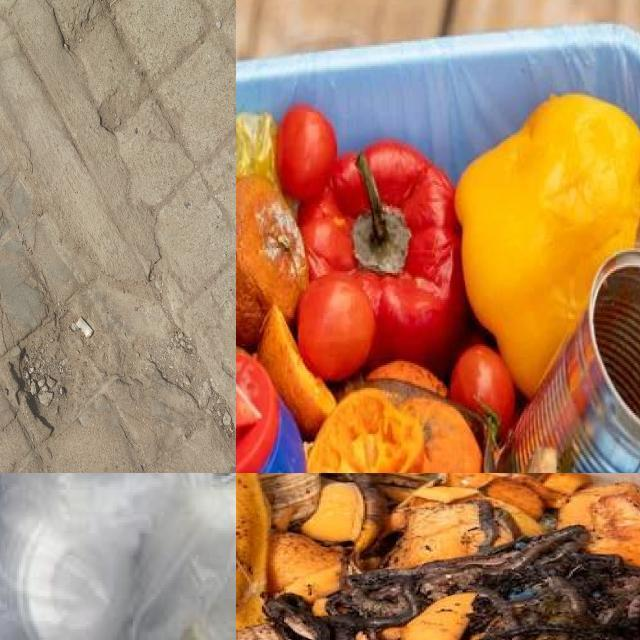Cig_bud: (76, 317, 94, 337)
Garbage: (236, 92, 640, 473), (236, 473, 640, 640), (0, 473, 236, 640)
Metal: (499, 250, 640, 473)
Plastic_bottle: (236, 351, 304, 473)
contaminated_waste: (0, 473, 236, 640), (496, 244, 640, 473)
